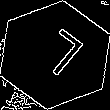L_SW: (25, 26, 85, 84)
